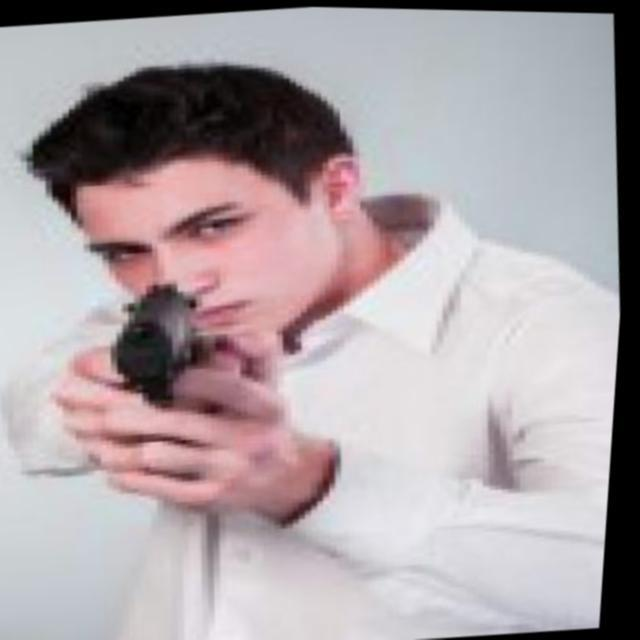weapon: (68, 261, 254, 508)
